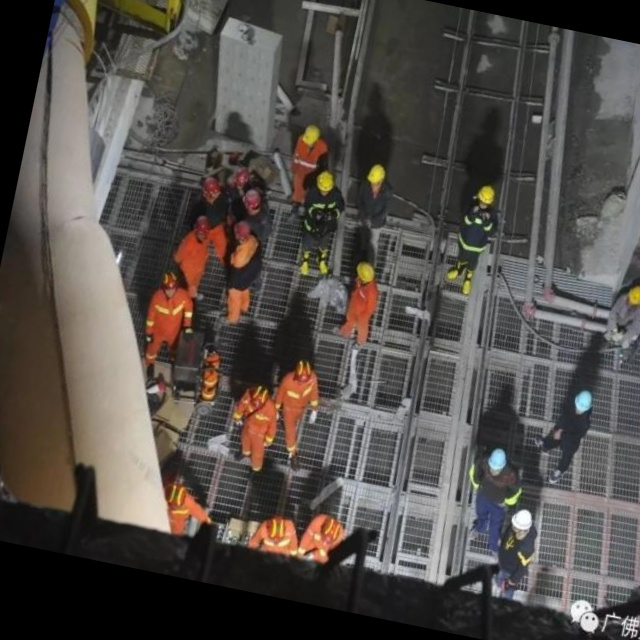Con_Casco: (364, 163, 388, 192), (355, 260, 378, 287), (476, 183, 496, 211), (302, 124, 322, 148)
